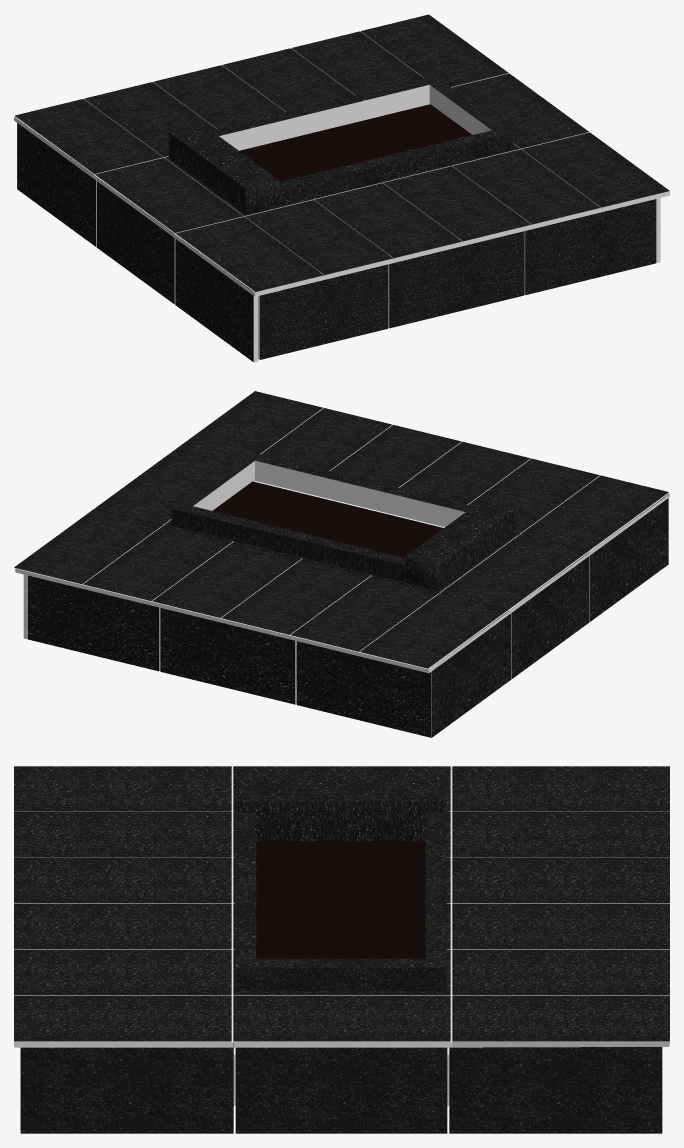
The model's file is 180-180-30 черн без брусч [u_2_u].glb.
The picture shows the model from 3 angles, top to bottom: view 1: azimuth 30°, elevation 25°; view 2: azimuth 150°, elevation 25°; view 3: azimuth 270°, elevation 25°; orthographic projection. The views are drawn at different scales.
Visible parts, largest first — view 1: Куб.183, Куб.180, Куб.181, Plane.001, Куб.185, Куб.187, Куб.002, Куб.186; view 2: Куб.183, Куб.179, Куб.181, Plane.001, Куб.187, Куб.185, Куб.002, Куб.186; view 3: Куб.183, Куб.182, Plane.001, Куб.002, Куб.186, Куб.185, Куб.187.
Part boxes in pixels (bbox=[...]): Куб.183: bbox=[14, 14, 669, 296]; Куб.180: bbox=[258, 199, 655, 359]; Куб.181: bbox=[17, 118, 258, 362]; Plane.001: bbox=[239, 104, 471, 181]; Куб.185: bbox=[278, 130, 502, 206]; Куб.187: bbox=[211, 79, 429, 150]; Куб.002: bbox=[168, 124, 279, 214]; Куб.186: bbox=[422, 75, 513, 152]; Куб.183: bbox=[14, 391, 669, 673]; Куб.179: bbox=[28, 575, 433, 737]; Куб.181: bbox=[432, 494, 668, 737]; Plane.001: bbox=[212, 481, 443, 557]; Куб.187: bbox=[185, 506, 405, 582]; Куб.185: bbox=[252, 455, 473, 525]; Куб.002: bbox=[405, 500, 515, 590]; Куб.186: bbox=[171, 451, 262, 528]; Куб.183: bbox=[14, 766, 669, 1047]; Куб.182: bbox=[20, 1034, 662, 1133]; Plane.001: bbox=[256, 841, 425, 958]; Куб.002: bbox=[235, 778, 447, 841]; Куб.186: bbox=[235, 958, 446, 990]; Куб.185: bbox=[235, 812, 256, 961]; Куб.187: bbox=[425, 812, 446, 958].
Size of the model in its own units: 1.84 by 0.4151 by 1.85.
6 materials, 3 textured.
